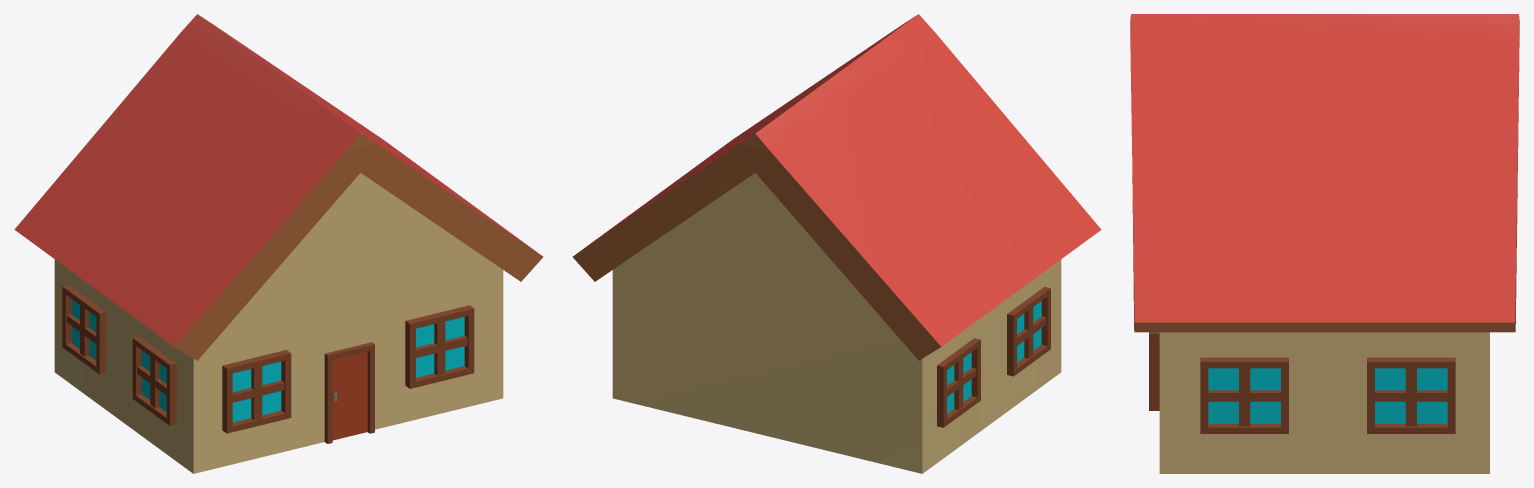
File: casa 1.fbx
3 renders of one model, left to right at view 1: azimuth 30°, elevation 25°; view 2: azimuth 150°, elevation 25°; view 3: azimuth 270°, elevation 25°, orthographic. The views are drawn at different scales.
Visible parts, largest first — view 1: casa; view 2: casa; view 3: casa.
Boxes of the visible parts, left/top/right/bottom form: casa: left=14, top=14, right=543, bottom=473; casa: left=572, top=14, right=1101, bottom=473; casa: left=1130, top=14, right=1519, bottom=473.
Size of the model in its own units: 1108 by 894 by 852.
